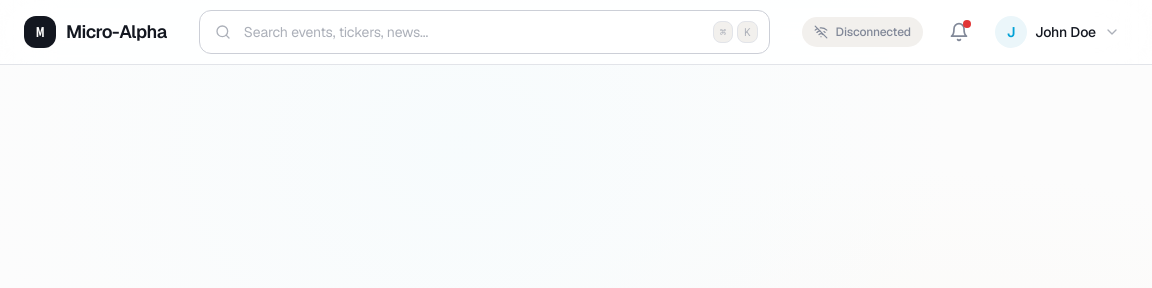
it: Header › user menu › closes user menu when clicking outside
Open user menu
Click the button "J John Doe". click: (1057, 32)
box: [987,8,1128,56]
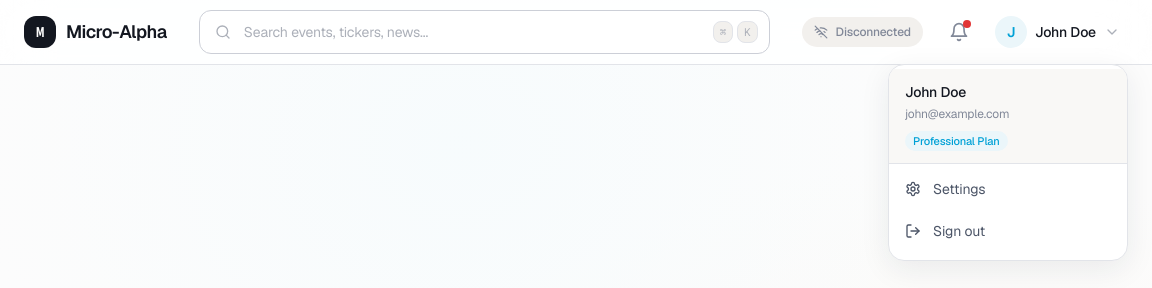
Check: the link "Settings" is shown, box [905,180,985,198]
Click the backdrop
Click the element with class "inset-0". click: (576, 32)
box: [0,0,1151,64]
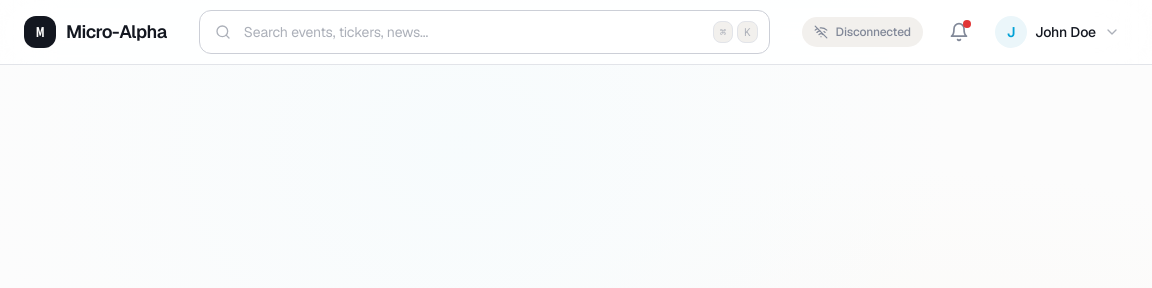
Check: the link "Settings" is gone
